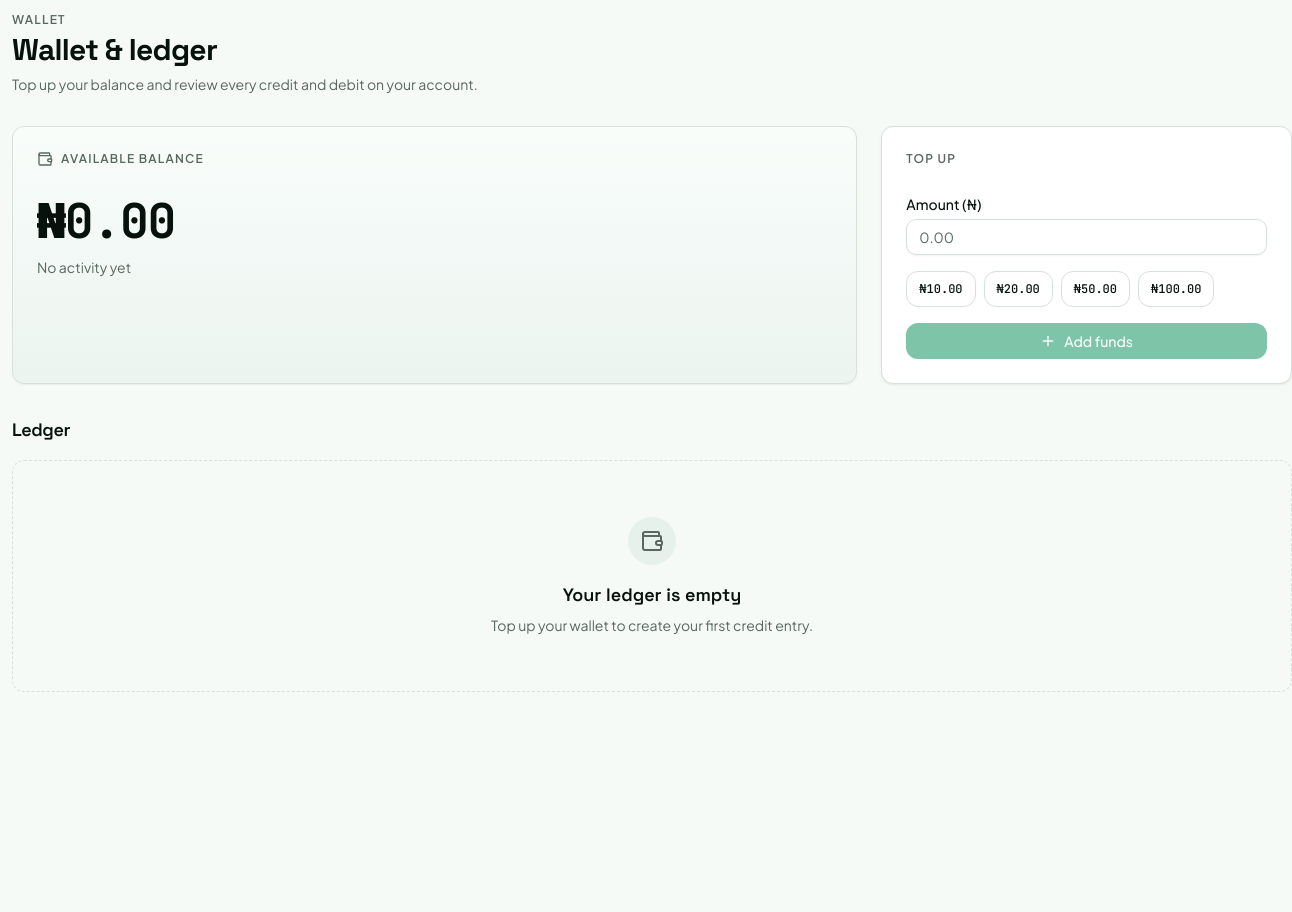
WalletPage › tops up the wallet and reflects the new balance
Step 1. Type "500" into the field labelled "Amount (₦)" → coordinates (1087, 237), box [906,219,1267,255]
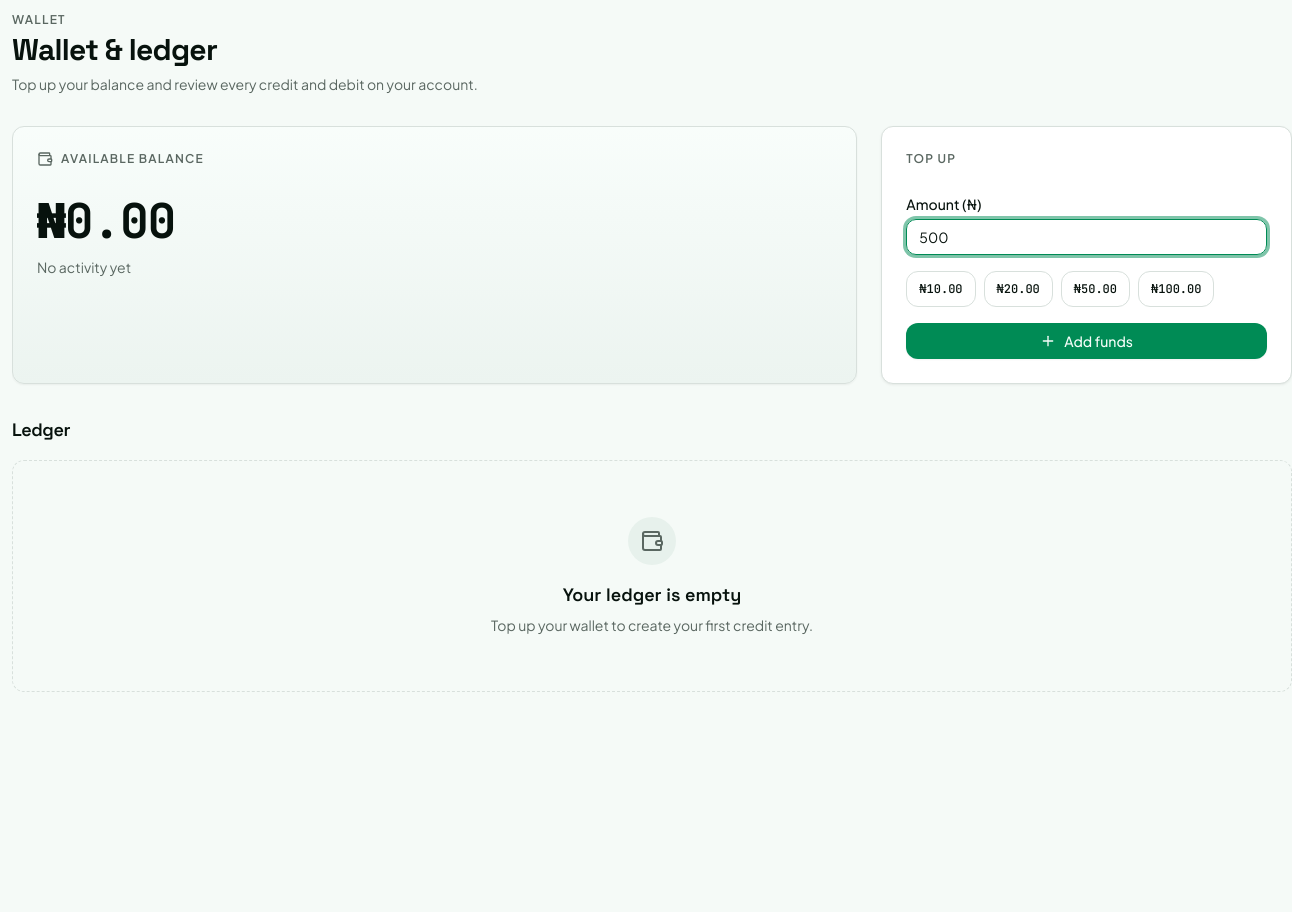
Step 2. Click the button "Add funds" → coordinates (1087, 341), box [906,323,1267,359]
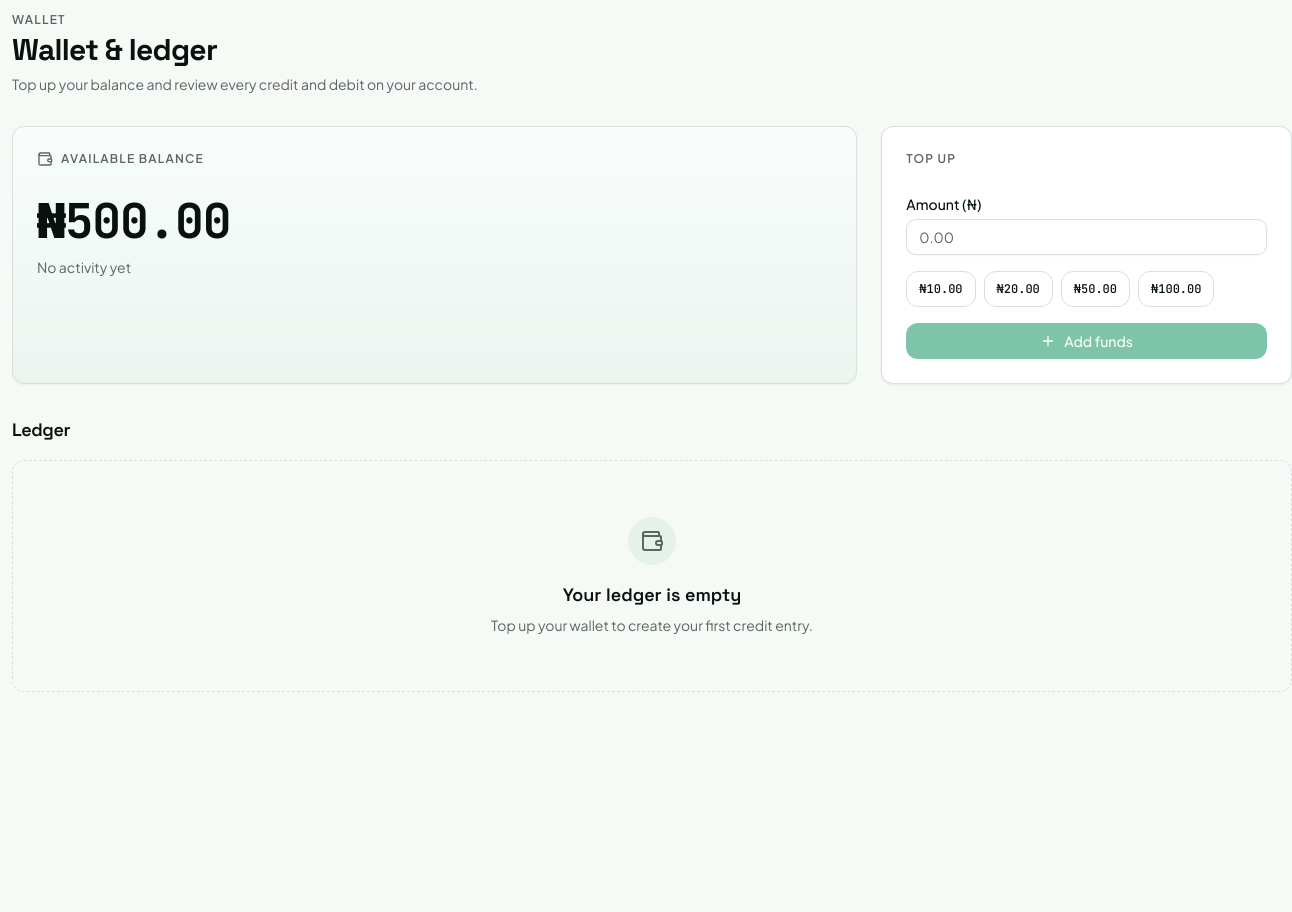
Expected: the text "₦500.00" is shown, [37,189,230,252]
